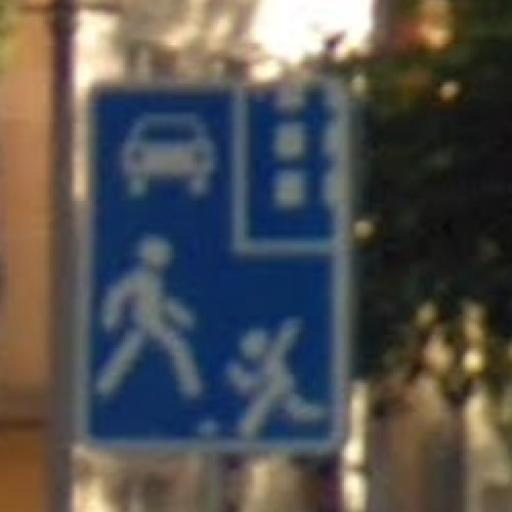traffic_sign: (79, 80, 351, 456)
